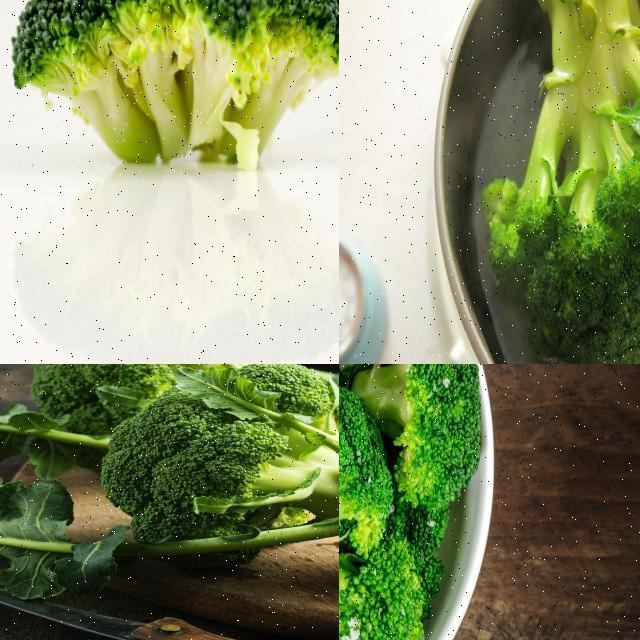broccoli: (3, 0, 338, 188), (94, 364, 338, 600), (484, 0, 639, 363), (20, 364, 288, 442), (348, 364, 487, 505), (339, 379, 395, 621), (339, 533, 428, 639)
